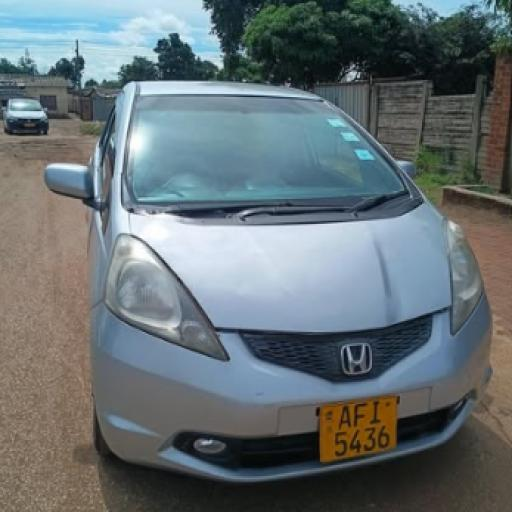number-plates: (317, 394, 400, 460)
